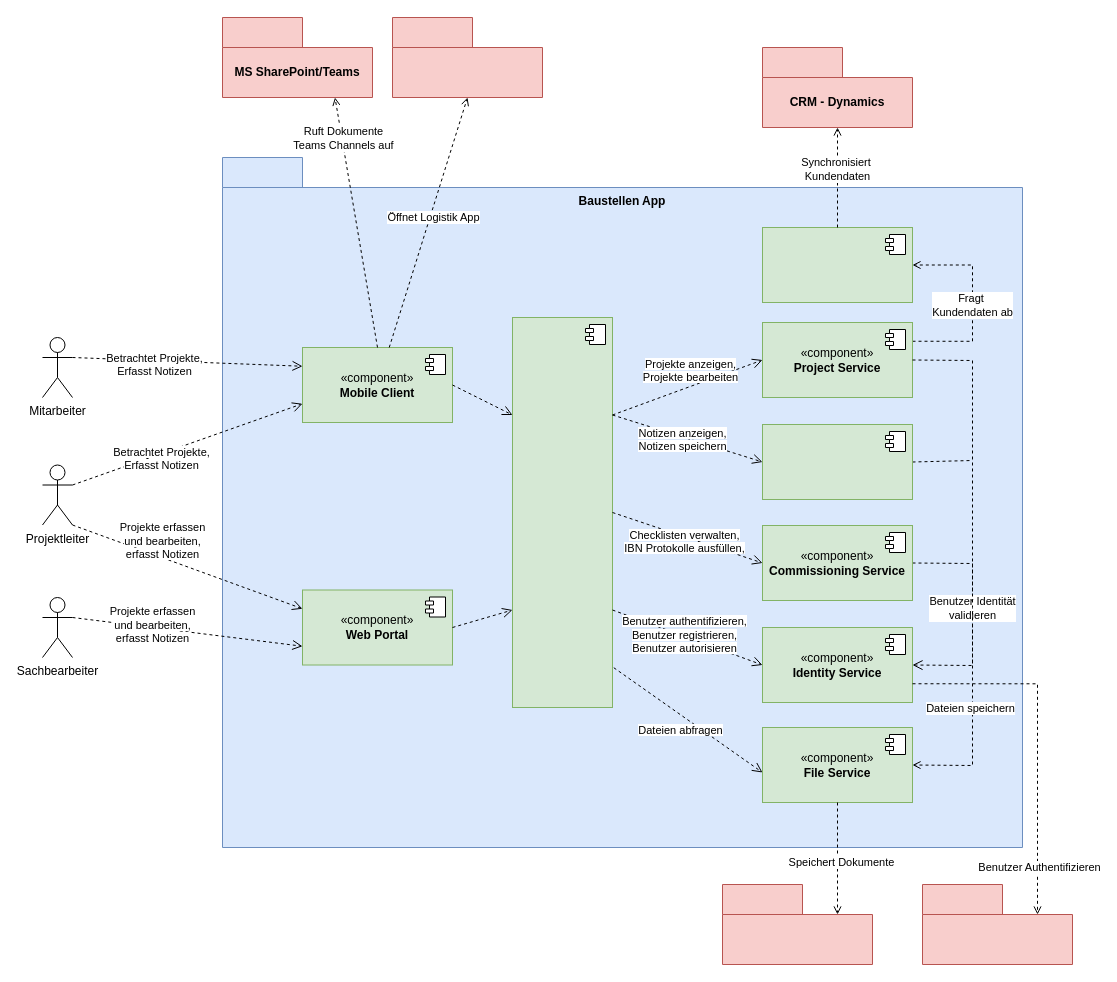
Image size: 1117x982. Some labels were removed from this diagram. The centre of each missing label's shape, as x and y in pixels:
Entra ID: (x=997, y=924)
Logistik Power App: (x=467, y=57)
MS SharePoint / Azure Blob Storage: (x=797, y=924)
«component» API Gateway: (x=562, y=512)
«component» Customer Service: (x=837, y=264)
«component» Note Service: (x=837, y=462)
